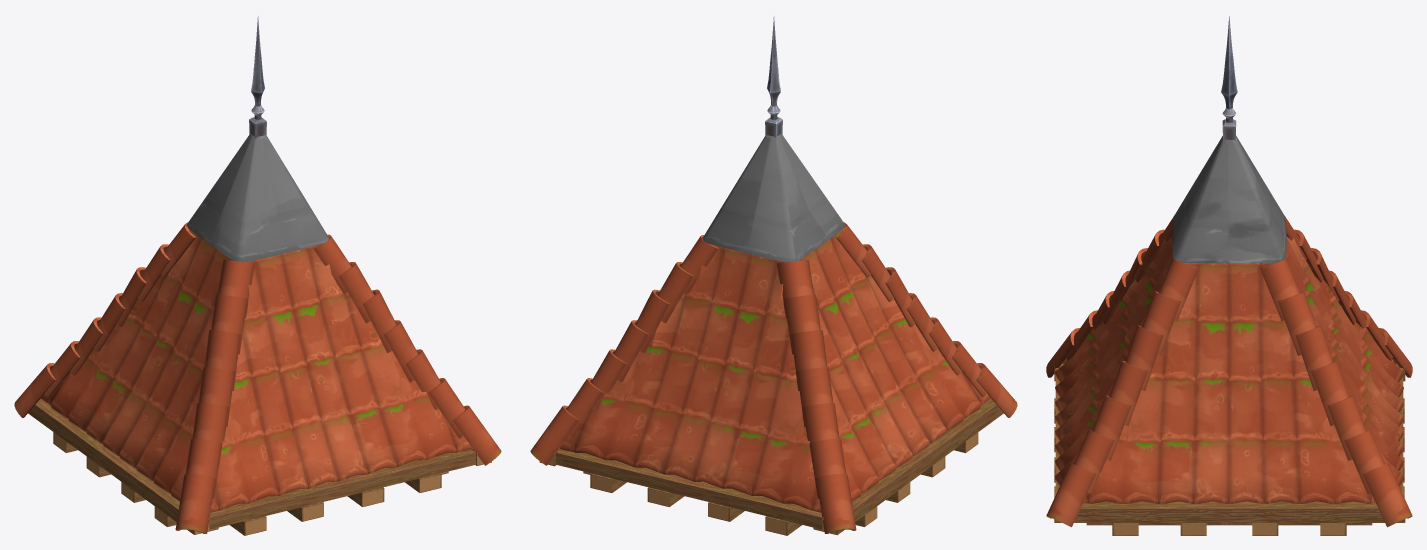
The model's file is Roof_Tower_RoundTiles.glb.
3 renders of one model, left to right at view 1: azimuth 30°, elevation 25°; view 2: azimuth 150°, elevation 25°; view 3: azimuth 270°, elevation 25°, orthographic. The views are drawn at different scales.
Visible parts, largest first — view 1: Roof_Tower_RoundTiles; view 2: Roof_Tower_RoundTiles; view 3: Roof_Tower_RoundTiles.
Boxes of the visible parts, left/top/right/bottom form: Roof_Tower_RoundTiles: left=14, top=16, right=501, bottom=535; Roof_Tower_RoundTiles: left=530, top=16, right=1017, bottom=535; Roof_Tower_RoundTiles: left=1046, top=16, right=1412, bottom=535.
Size of the model in its own units: 5.65 by 7.36 by 5.43.
Materials: 4 (4 with a texture image).
